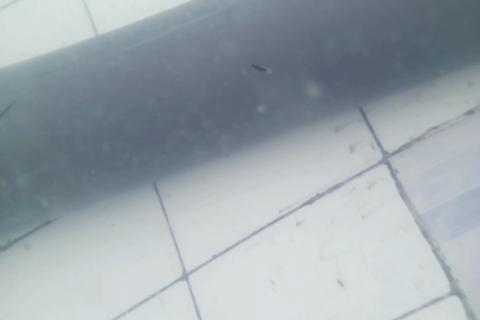keretakan: (0, 95, 17, 122), (248, 60, 270, 76)
